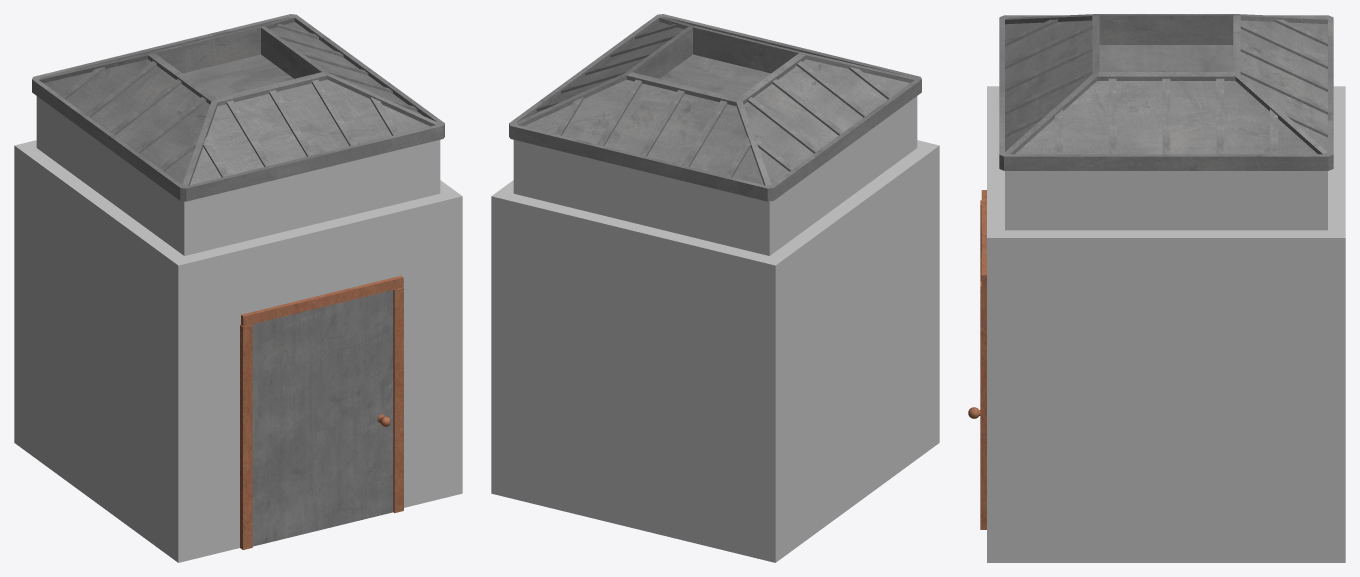
File: roof_building_small.fbx
3 renders of one model, left to right at view 1: azimuth 30°, elevation 25°; view 2: azimuth 150°, elevation 25°; view 3: azimuth 270°, elevation 25°, orthographic. The views are drawn at different scales.
Visible parts, largest first — view 1: Cylinder.002; view 2: Cylinder.002; view 3: Cylinder.002.
Boxes of the visible parts, left/top/right/bottom form: Cylinder.002: left=14, top=14, right=462, bottom=562; Cylinder.002: left=491, top=14, right=939, bottom=562; Cylinder.002: left=968, top=14, right=1345, bottom=562.
Size of the model in its own units: 300 by 409 by 316.
